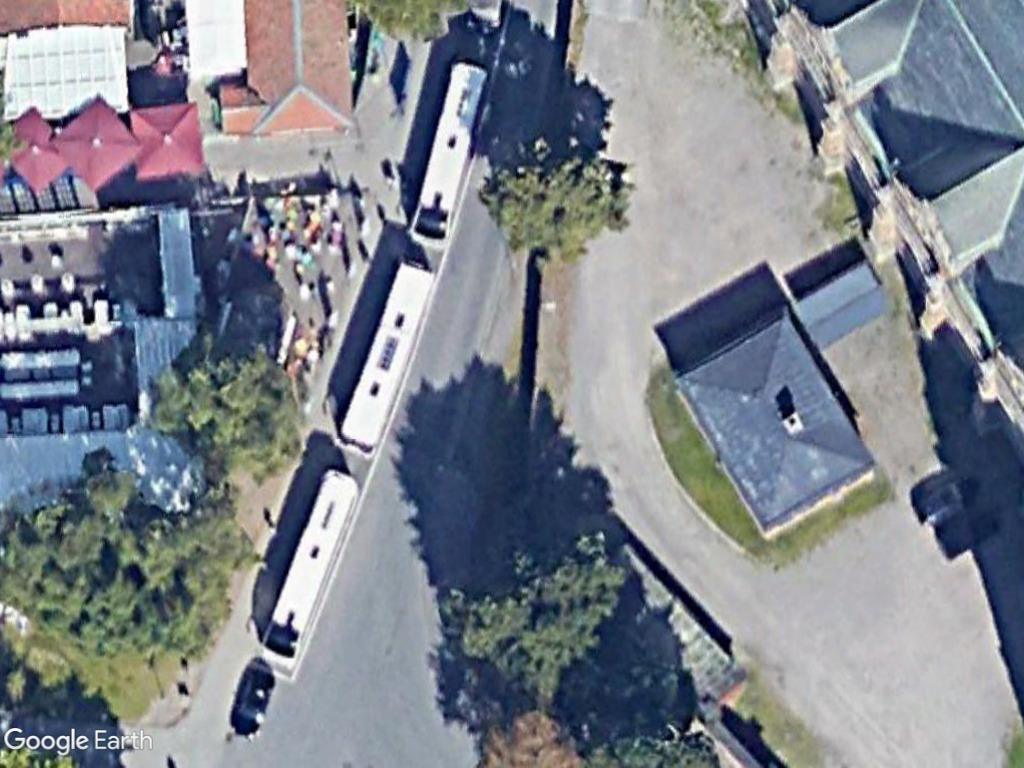bus: (255, 462, 364, 669), (332, 255, 438, 462), (403, 44, 491, 255)
